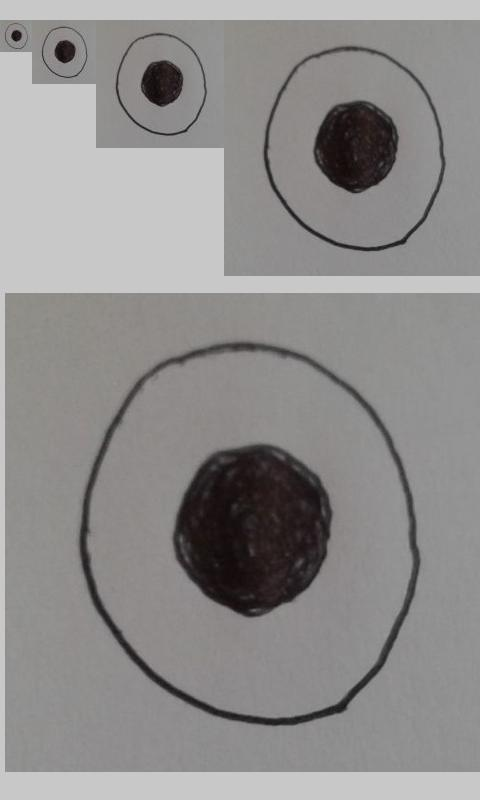radio_button: (76, 339, 423, 729), (262, 44, 446, 253), (115, 32, 207, 136), (41, 26, 88, 79), (4, 22, 29, 50)
